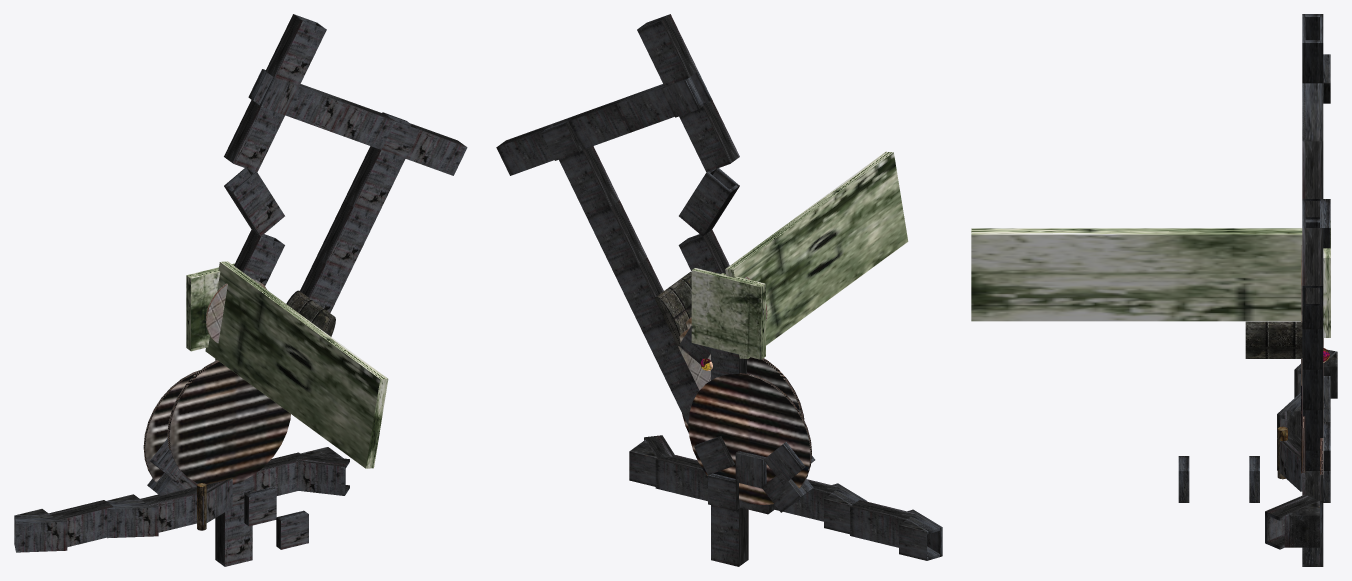
Rendered from cramped.glb.
3 renders of one model, left to right at view 1: azimuth 30°, elevation 25°; view 2: azimuth 150°, elevation 25°; view 3: azimuth 270°, elevation 25°, orthographic. The views are drawn at different scales.
Parts seen in each view (by area): view 1: Cube.043, Cylinder.001, Cube.118, Cube.107, Cylinder.026, Cube.099, Cube.050, Cube.064, Cube.057, Cube.084, Cube.087, Cube.104 (+20 smaller); view 2: Cube.043, Cylinder.026, Cube.118, Cube.098, Cube.056, Cube.049, Cube.097, Cube.106, Cube.048, Cube.086, Cube.077, Cube.041 (+25 smaller); view 3: Cube.043, Cylinder.021, Cube.008, Cube.083, Cube.088, Cube.102, Cube.020, Cube.118, Cube.044, Cube.045, Cube.101, Cube.026 (+7 smaller).
Part boxes in pixels (x1,y1,x2,y2): Cube.043: [205, 261, 388, 468]; Cylinder.001: [167, 360, 290, 484]; Cube.118: [186, 263, 234, 351]; Cube.107: [232, 172, 284, 236]; Cylinder.026: [143, 370, 200, 482]; Cube.099: [275, 20, 326, 86]; Cube.050: [354, 150, 405, 215]; Cube.064: [16, 520, 67, 552]; Cube.057: [107, 506, 158, 538]; Cube.084: [405, 132, 467, 175]; Cube.087: [333, 106, 394, 149]; Cube.104: [286, 86, 346, 131]; Cube.043: [725, 151, 908, 358]; Cylinder.026: [688, 373, 811, 504]; Cube.118: [691, 268, 765, 359]; Cube.098: [637, 20, 689, 86]; Cube.056: [586, 206, 639, 272]; Cube.049: [559, 149, 611, 215]; Cube.097: [679, 106, 731, 172]; Cube.106: [679, 172, 731, 236]; Cube.048: [614, 263, 665, 329]; Cube.086: [568, 103, 630, 149]; Cube.077: [711, 505, 740, 566]; Cube.041: [641, 322, 693, 386]; Cube.043: [971, 228, 1302, 321]; Cylinder.021: [1245, 321, 1302, 358]; Cube.008: [1284, 501, 1319, 547]; Cube.083: [1302, 228, 1319, 287]; Cube.088: [1302, 141, 1319, 200]; Cube.102: [1302, 83, 1319, 141]; Cube.020: [1277, 438, 1302, 491]; Cube.118: [1323, 221, 1330, 337]; Cube.044: [1302, 369, 1319, 410]; Cube.045: [1302, 329, 1319, 369]; Cube.101: [1305, 40, 1319, 83]; Cube.026: [1302, 410, 1319, 450].
Bounding box in the file's own units: 320 × 362 × 207.
126 materials, 126 textured.
